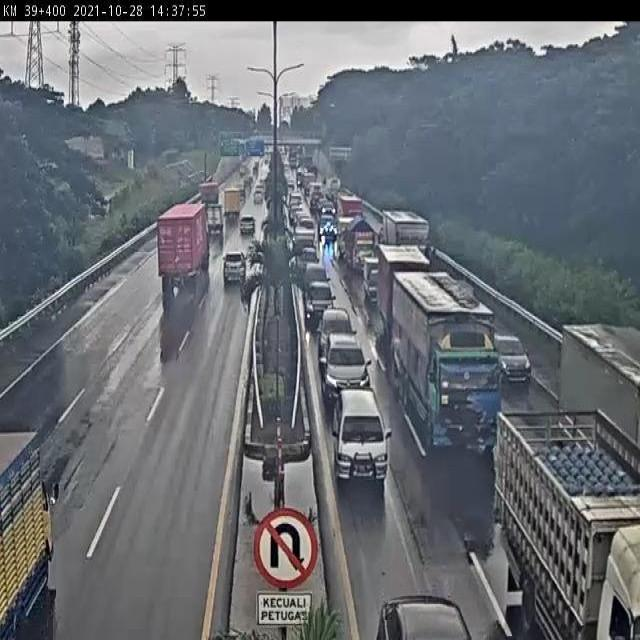big truck: (487, 390, 640, 640), (158, 197, 211, 287)
car: (391, 269, 497, 471), (329, 381, 411, 504), (324, 332, 387, 396), (493, 326, 540, 391), (318, 305, 368, 347), (303, 279, 332, 329), (223, 248, 253, 288), (304, 259, 329, 289), (235, 216, 258, 236), (253, 188, 268, 209)
small truck: (199, 179, 223, 213), (224, 182, 243, 218), (206, 203, 224, 240)
